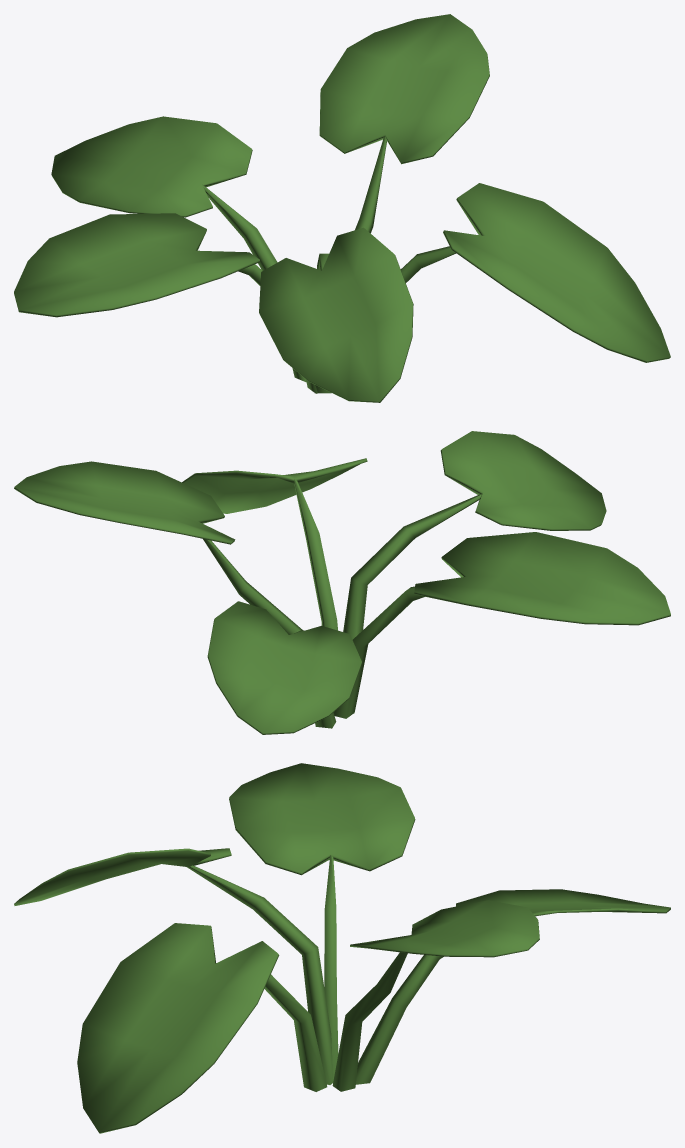
Rendered from leafyplant3.fbx.
3 renders of one model, top to bottom at view 1: azimuth 30°, elevation 25°; view 2: azimuth 150°, elevation 25°; view 3: azimuth 270°, elevation 25°, orthographic.
Visible parts, largest first — view 1: leafyplant3; view 2: leafyplant3; view 3: leafyplant3.
Boxes of the visible parts, x1,y1,x2,y2 form: leafyplant3: (14, 14, 670, 402); leafyplant3: (14, 431, 670, 734); leafyplant3: (14, 763, 670, 1133).
Bounding box in the file's own units: 148 × 62.43 × 153.
